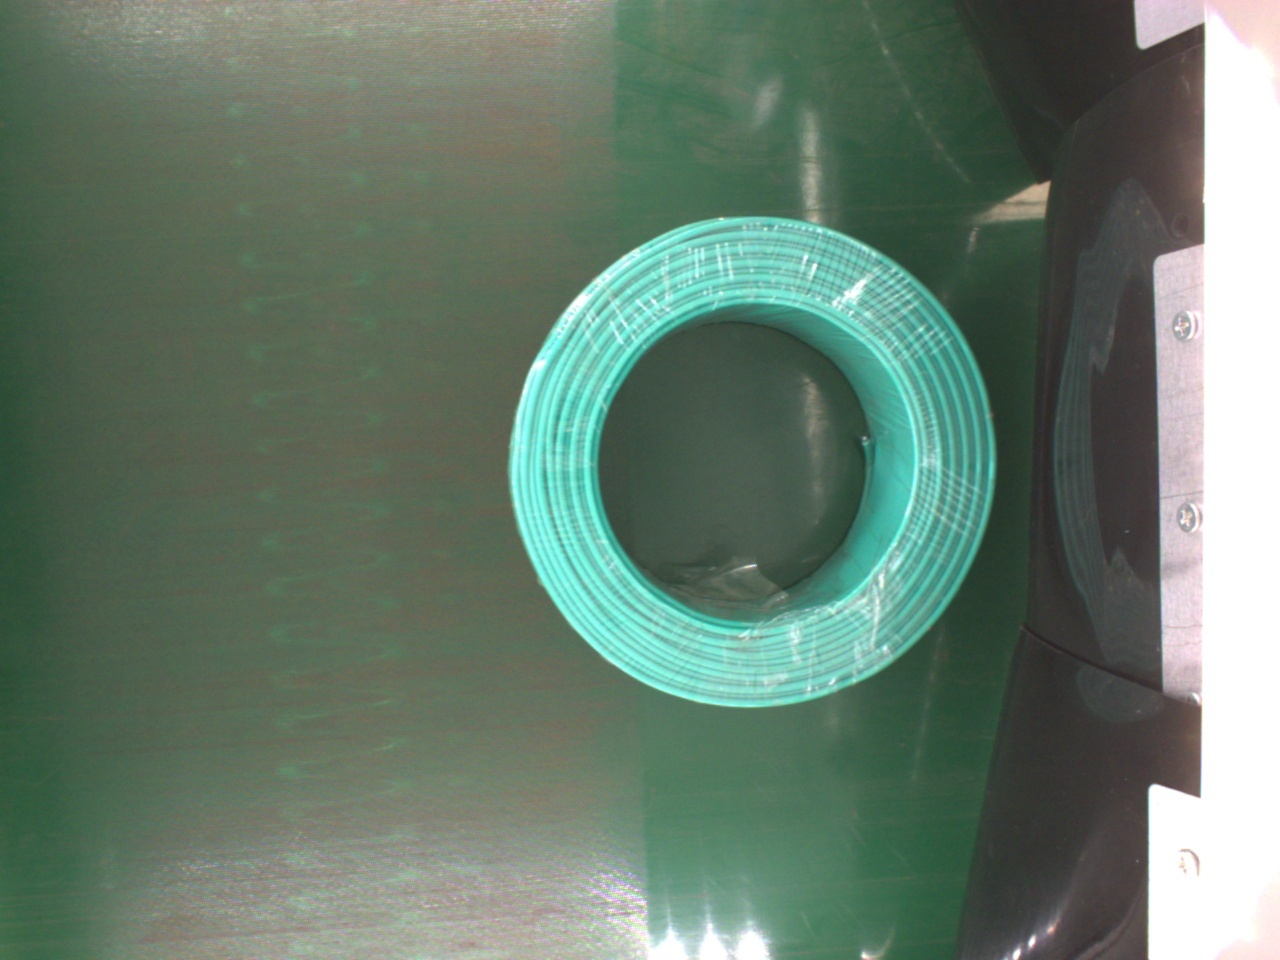green: (503, 213, 996, 714)
